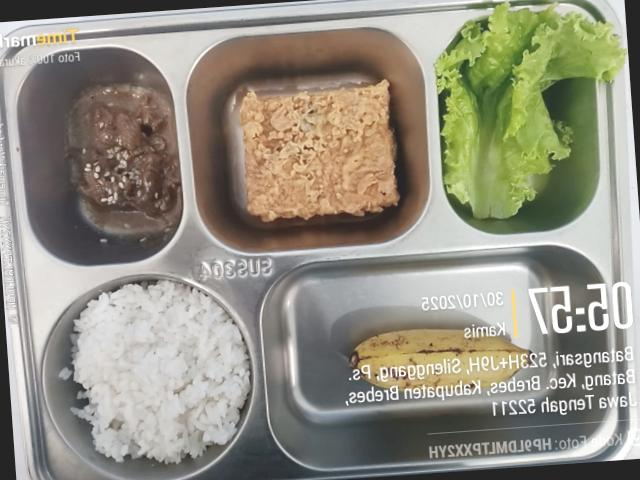ayam: (67, 84, 181, 219)
buah: (350, 329, 530, 389)
nasi: (71, 279, 250, 462)
sayur: (435, 2, 626, 218)
tempe: (240, 79, 399, 221)
